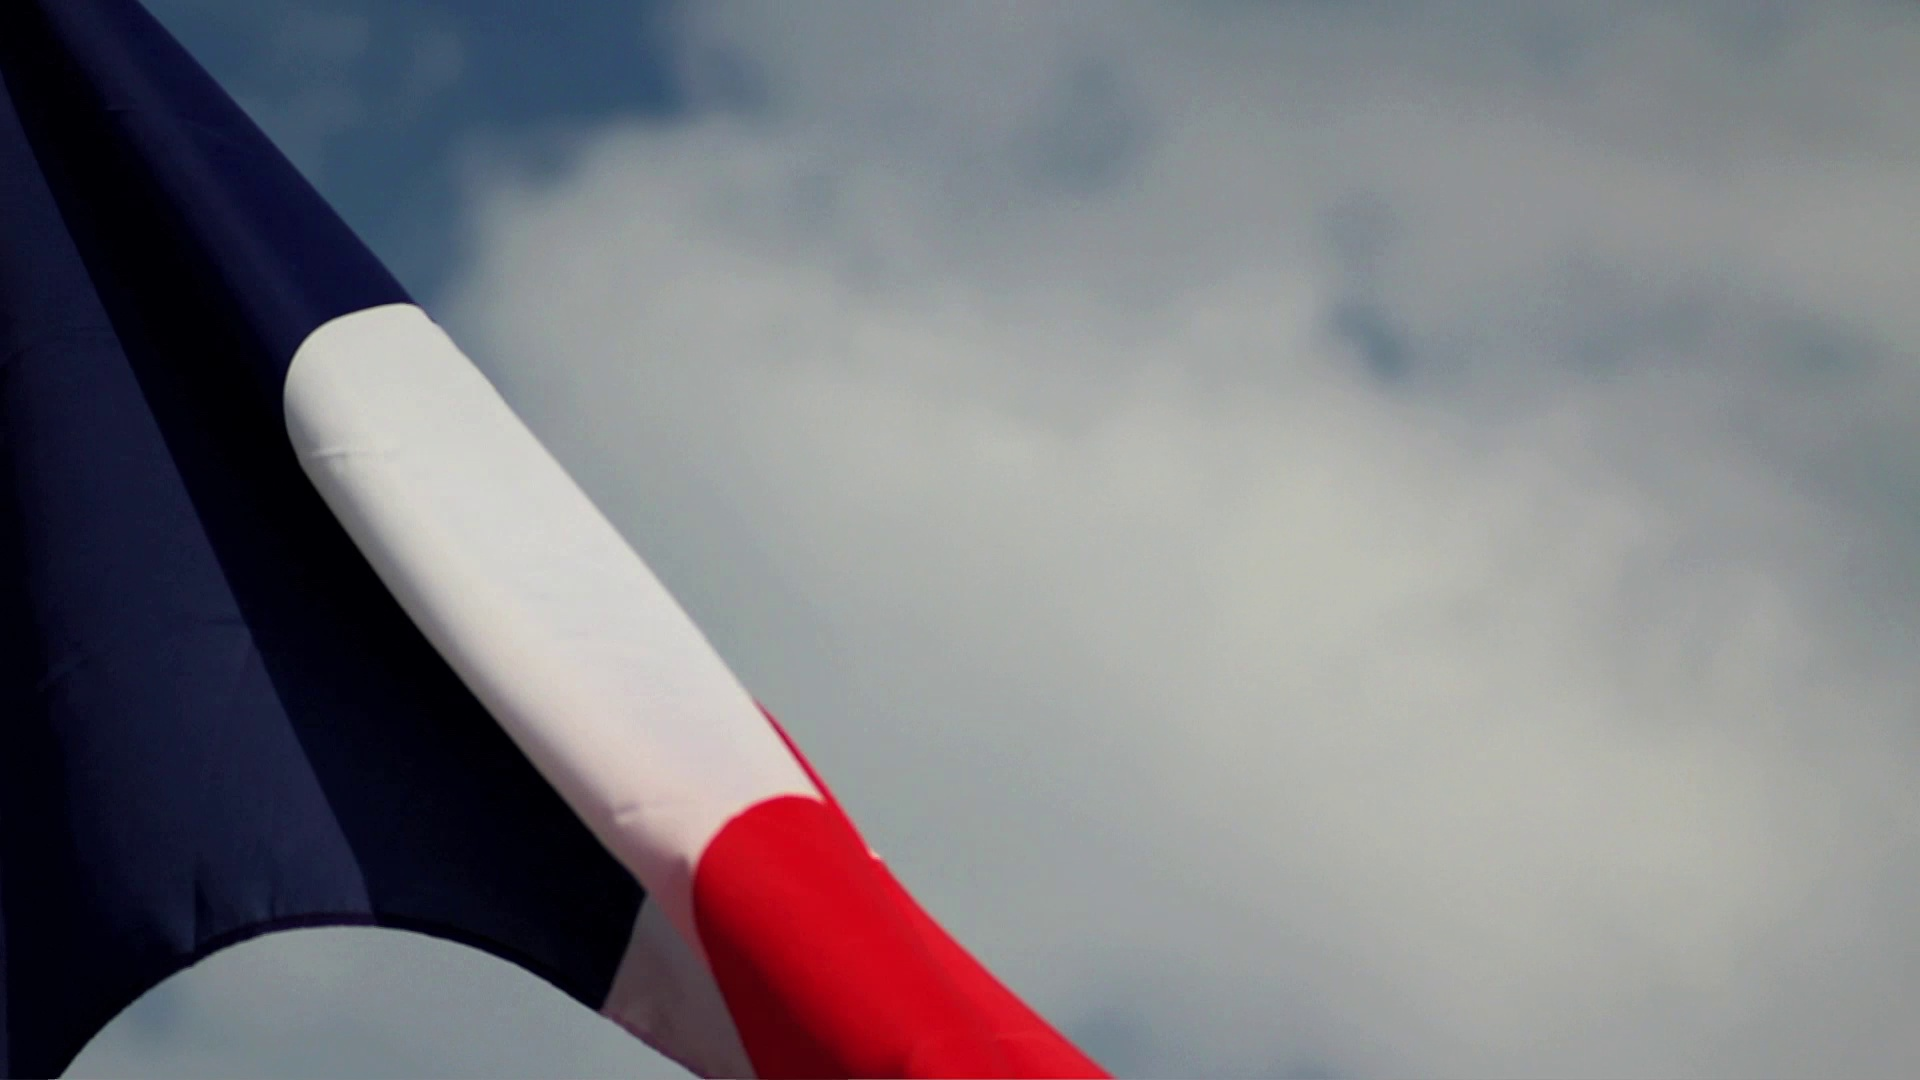French Flag: (1, 1, 1110, 1080)
